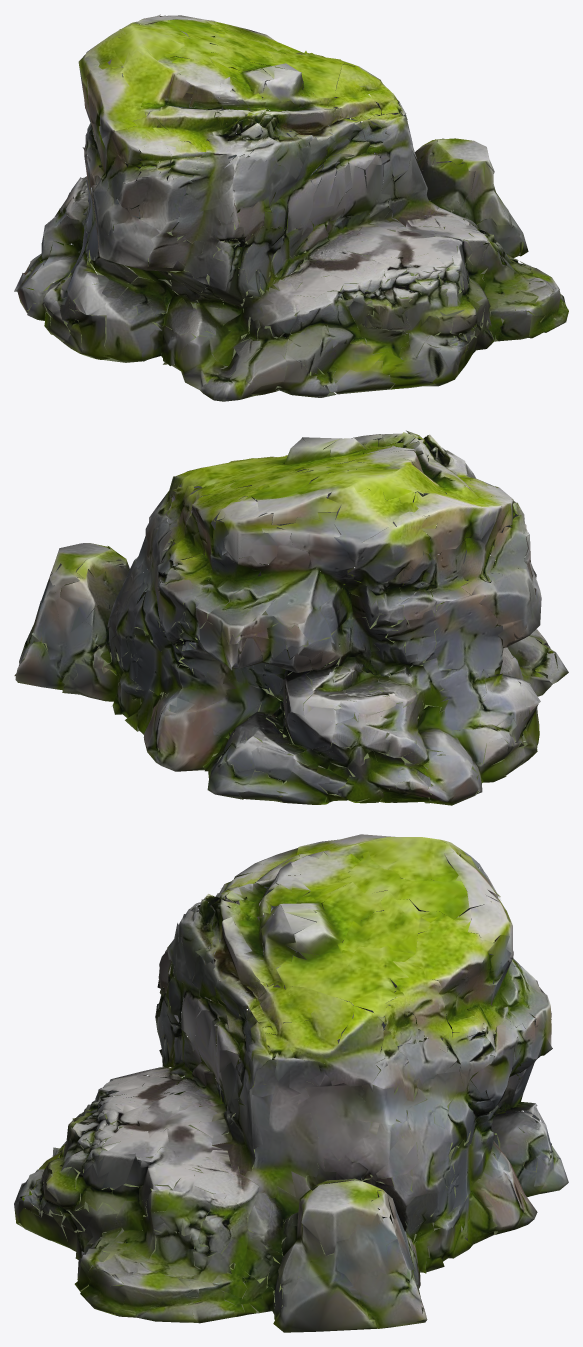
Rendered from rock_town.glb.
The picture shows the model from 3 angles, top to bottom: view 1: azimuth 30°, elevation 25°; view 2: azimuth 150°, elevation 25°; view 3: azimuth 270°, elevation 25°; orthographic projection. The views are drawn at different scales.
Visible parts, largest first — view 1: rock; view 2: rock; view 3: rock.
Boxes of the visible parts, x1=… form: rock: x1=14, y1=14, x2=568, y2=401; rock: x1=14, y1=430, x2=568, y2=805; rock: x1=14, y1=834, x2=568, y2=1332.
Size of the model in its own units: 1.9 by 1.07 by 1.74.
1 material, 1 textured.
